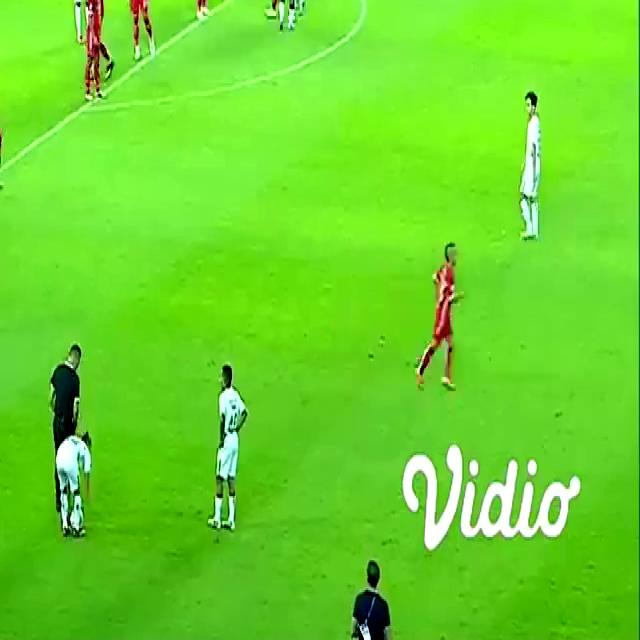soccer-player: (412, 240, 480, 400), (200, 360, 258, 534), (502, 89, 555, 251), (115, 0, 164, 73), (261, 0, 319, 46), (0, 45, 17, 199), (53, 0, 98, 50), (176, 0, 229, 25)
